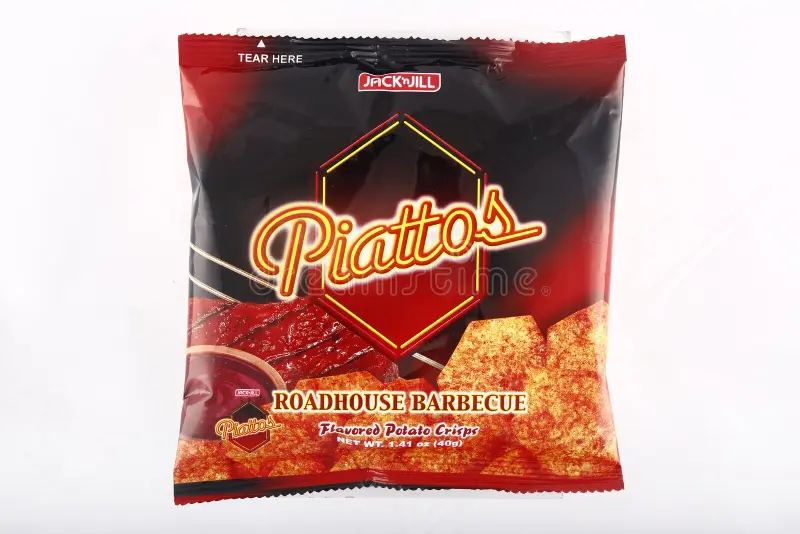non-toxic_waste: (170, 39, 622, 486)
